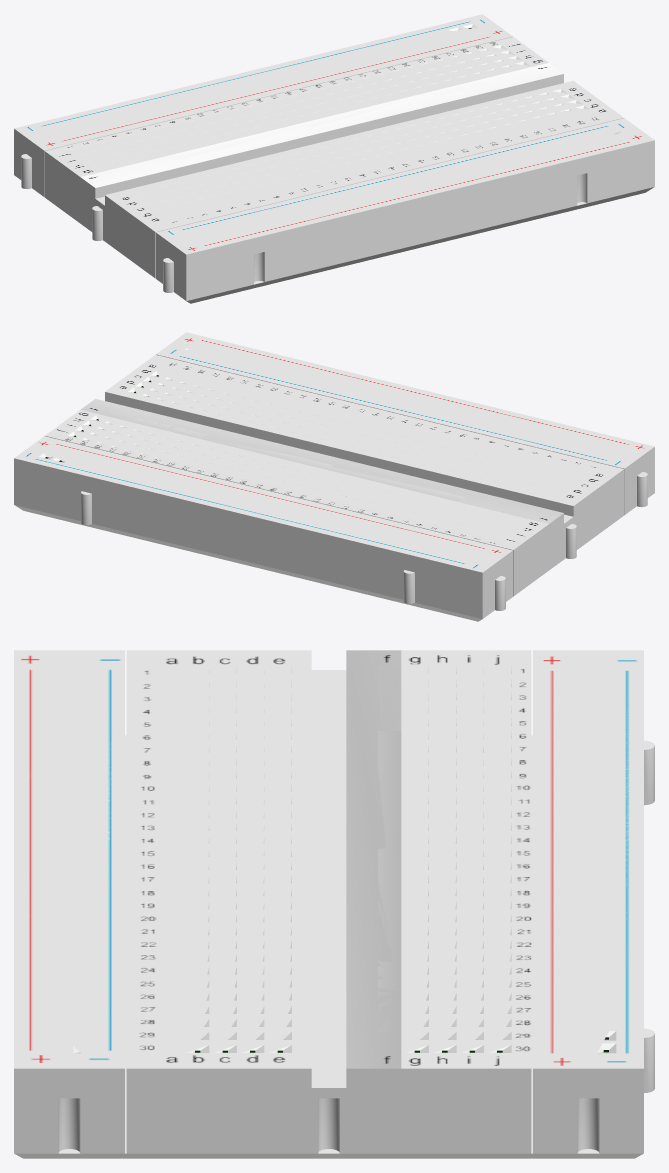
Rendered from Protoboard.fbx.
The picture shows the model from 3 angles, top to bottom: view 1: azimuth 30°, elevation 25°; view 2: azimuth 150°, elevation 25°; view 3: azimuth 270°, elevation 25°; orthographic projection. The views are drawn at different scales.
Visible parts, largest first — view 1: Protoboard; view 2: Protoboard; view 3: Protoboard.
Part boxes in pixels (x1,y1,x2,y2): Protoboard: (14,14,654,303); Protoboard: (14,332,654,621); Protoboard: (14,650,654,1158).
Size of the model in its own units: 8516 by 900 by 5434.
